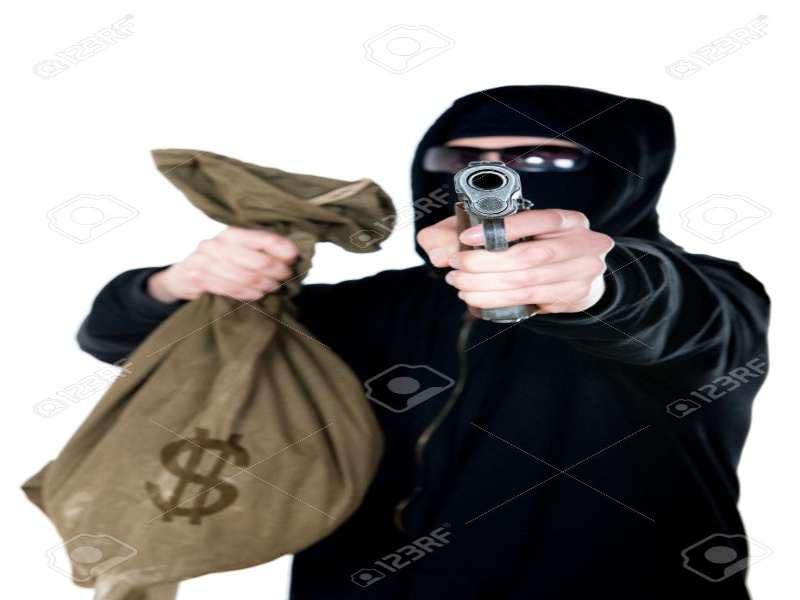gun: (426, 173, 548, 351)
